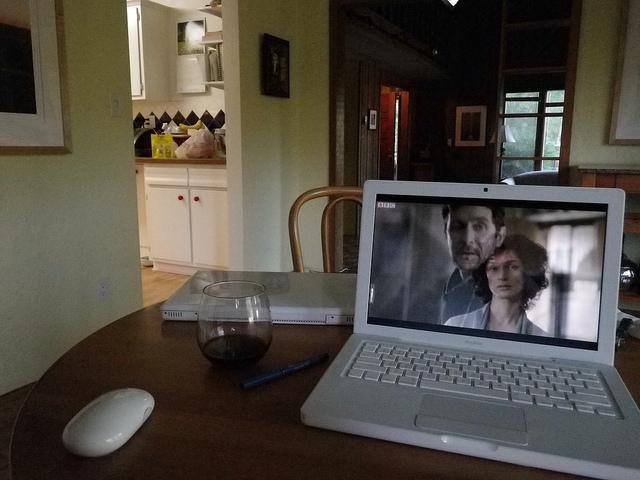banana: (180, 120, 202, 131), (179, 119, 201, 126), (199, 124, 205, 130)
